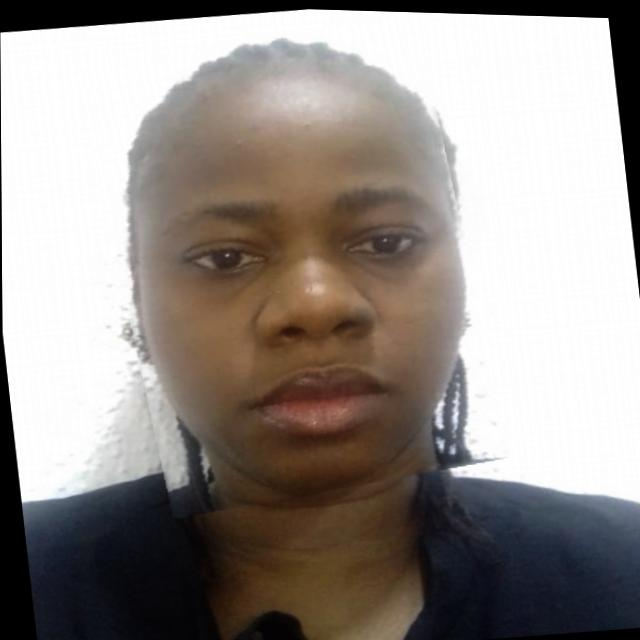sad: (83, 3, 503, 520)
